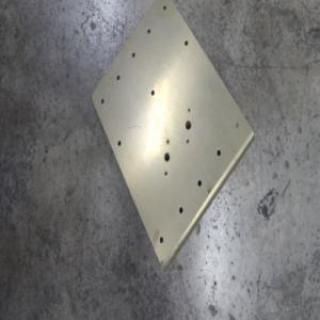MetalSheettrack_idkeyframe: (89, 0, 256, 274)
